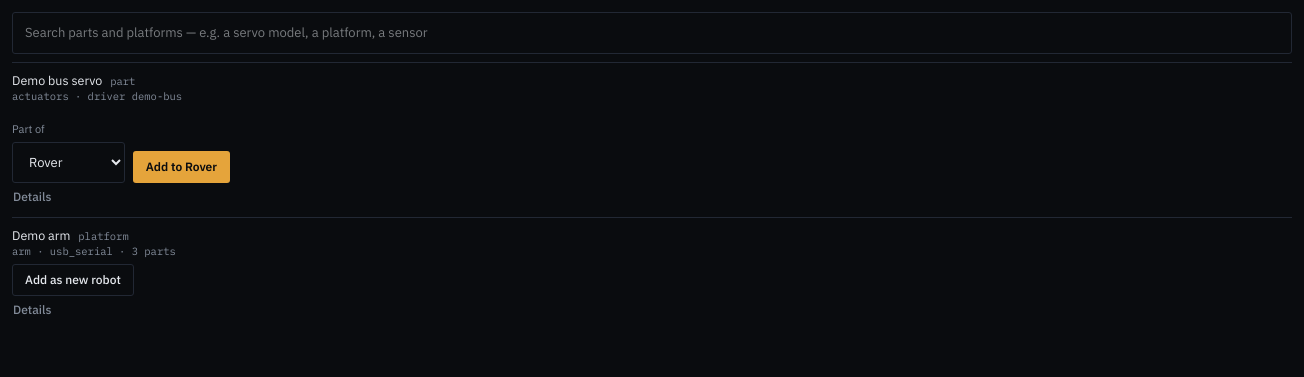
Test: sends a typed platform name and shows an import failure verbatim
Click the button with aria-label "Add Demo arm as new robot": click(73, 280) [12, 264, 134, 296]
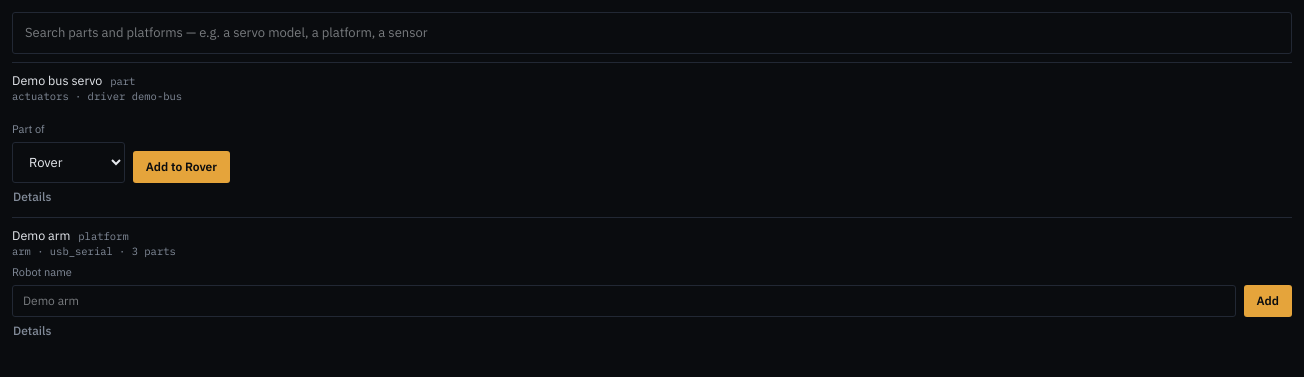
In the field labelled "Robot name": (624, 300) [12, 284, 1236, 316], type " Bench "
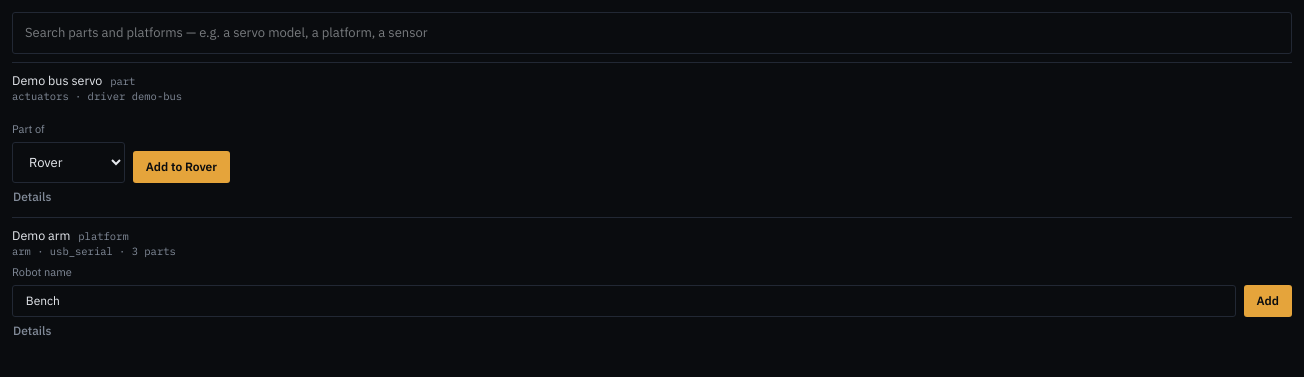
Click the button "Add": click(1268, 300) [1244, 284, 1292, 316]
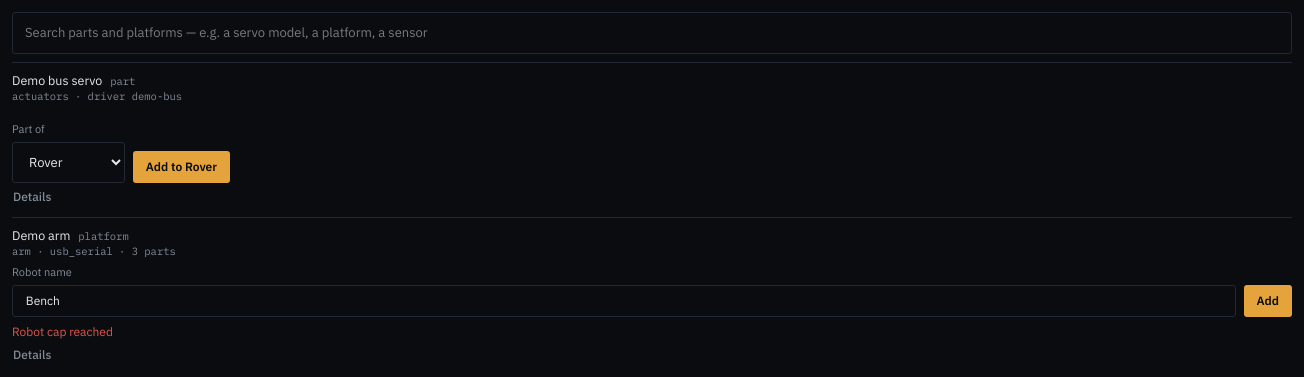
Expected: the message reads "Robot cap reached", [12, 324, 113, 338]
